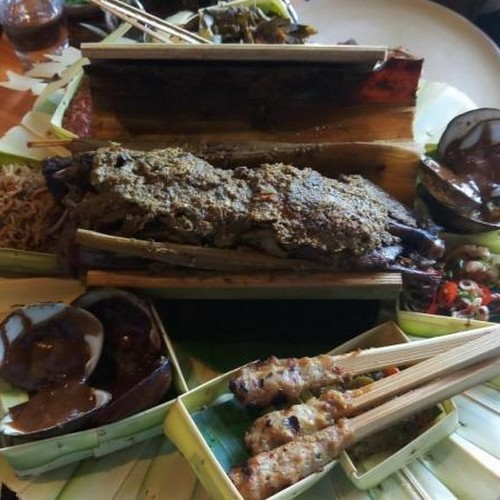bebek timbungan: (47, 128, 448, 298)
